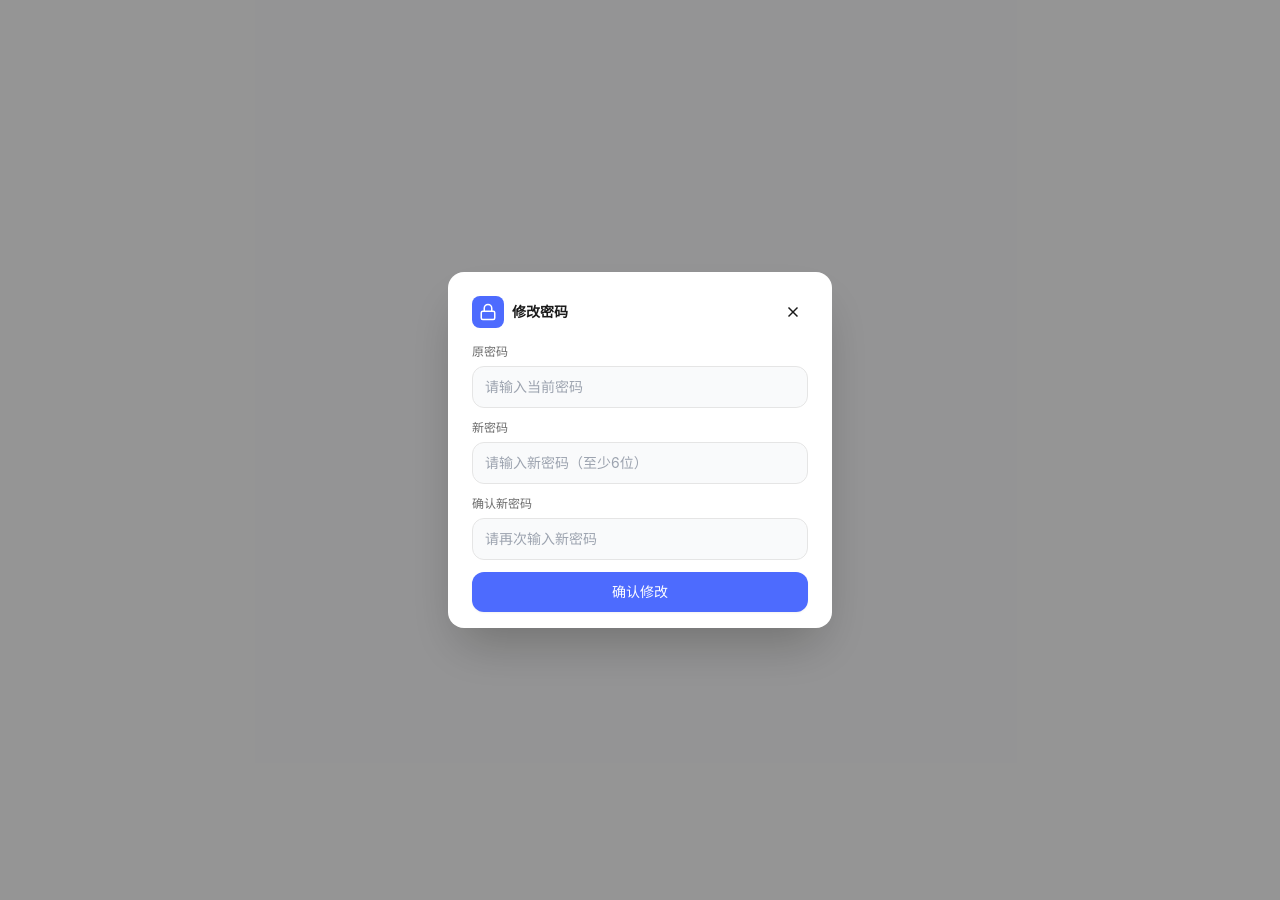
Scenario: ChangePasswordModal › 新密码过短报错
Type "abc123" into the password field with placeholder "请输入当前密码" at (640, 387), box [472, 366, 808, 408]
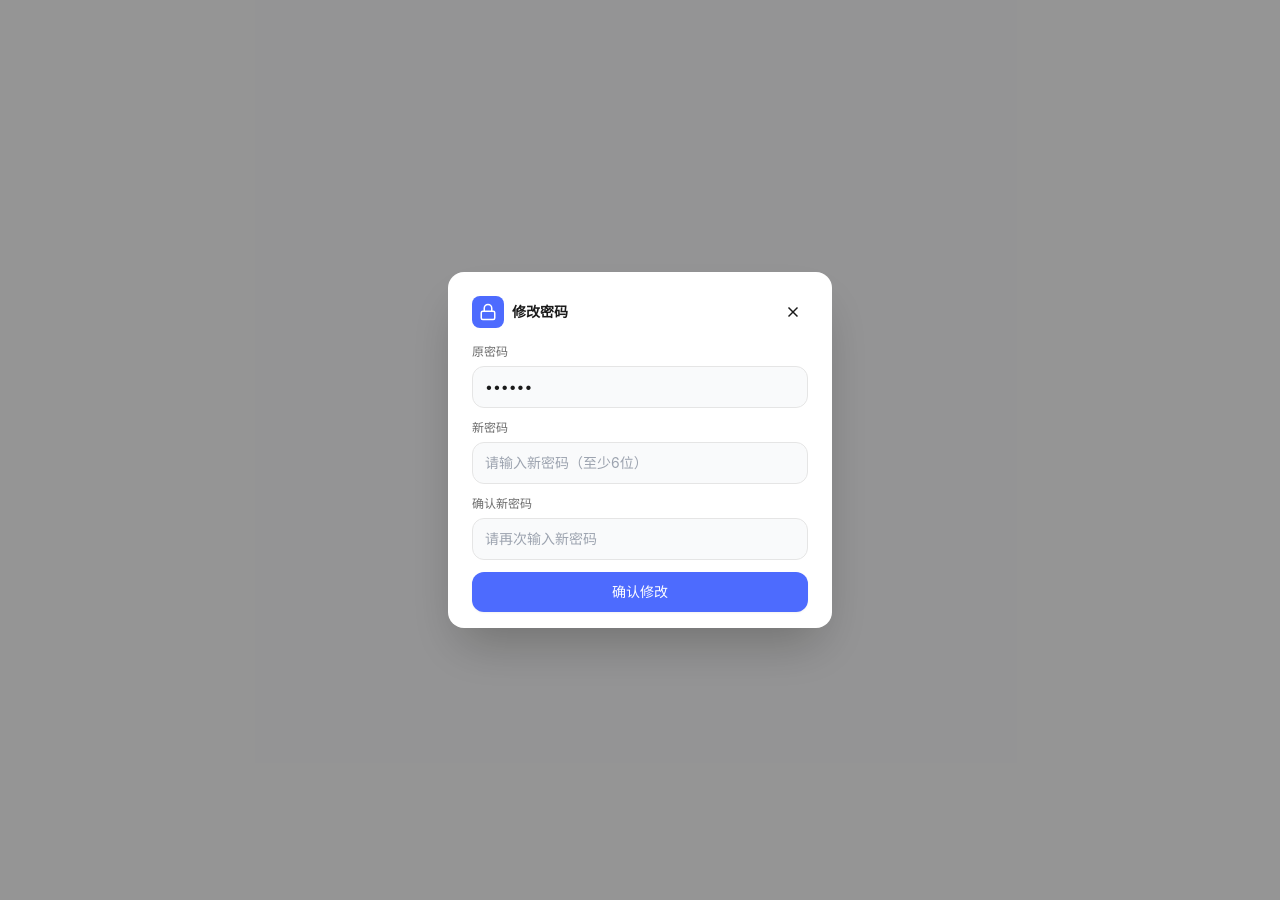
Type "123" into the password field with placeholder "请输入新密码（至少6位）" at (640, 463), box [472, 442, 808, 484]
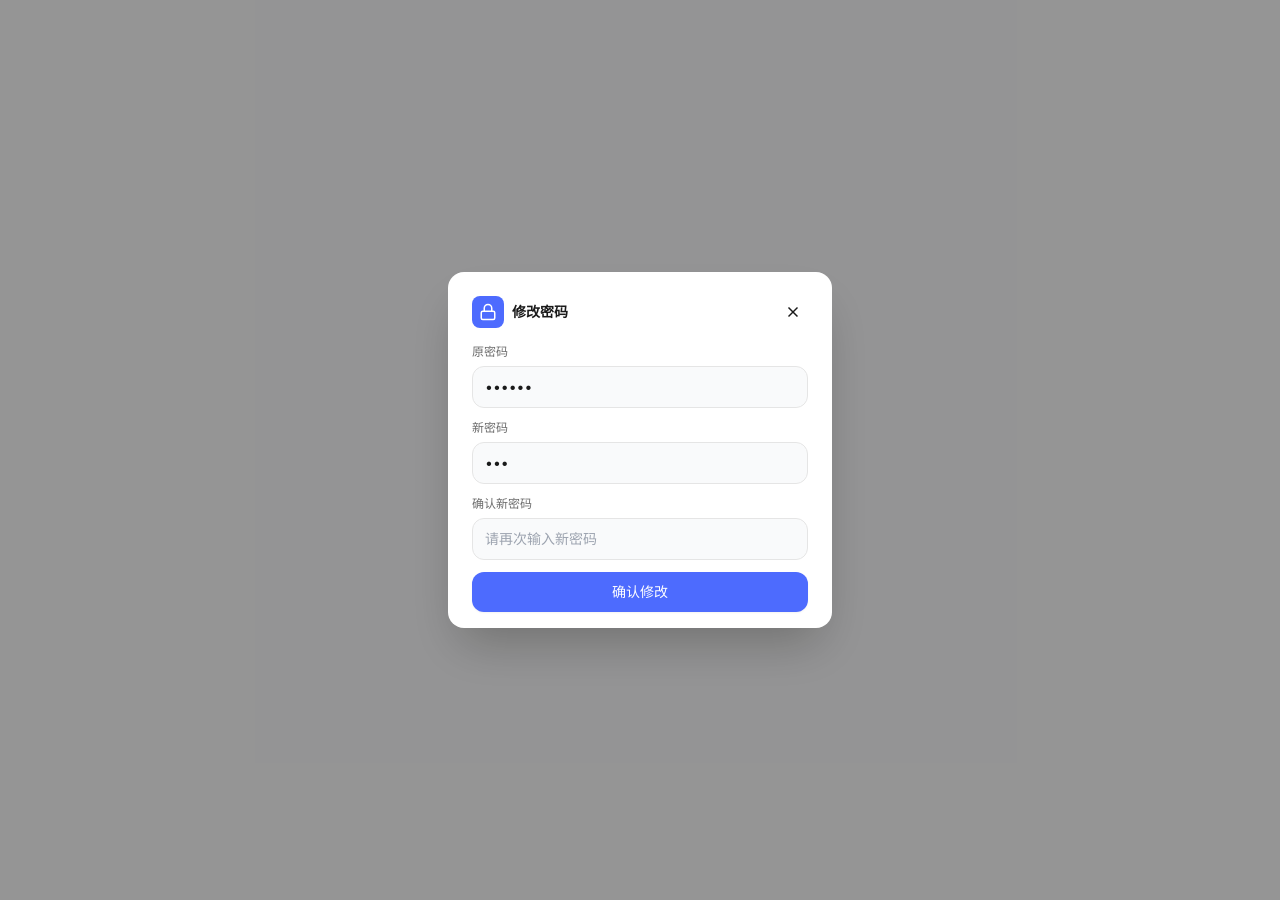
Click the button "确认修改" at (640, 592), box [472, 572, 808, 612]
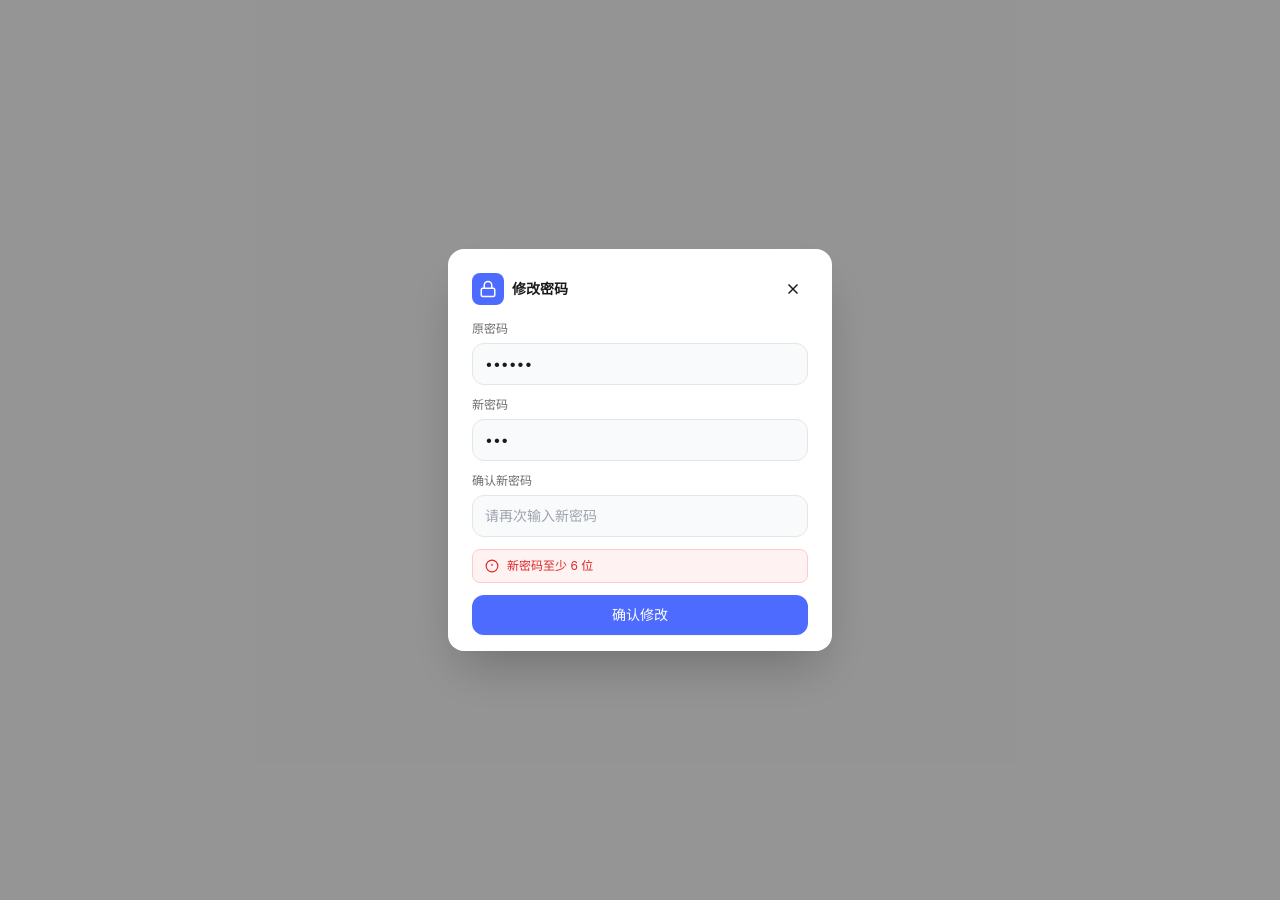
Expected: the text "新密码至少 6 位" is shown, [472, 549, 808, 583]
